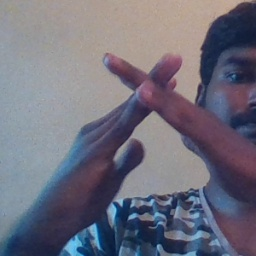W: (72, 38, 228, 186)
